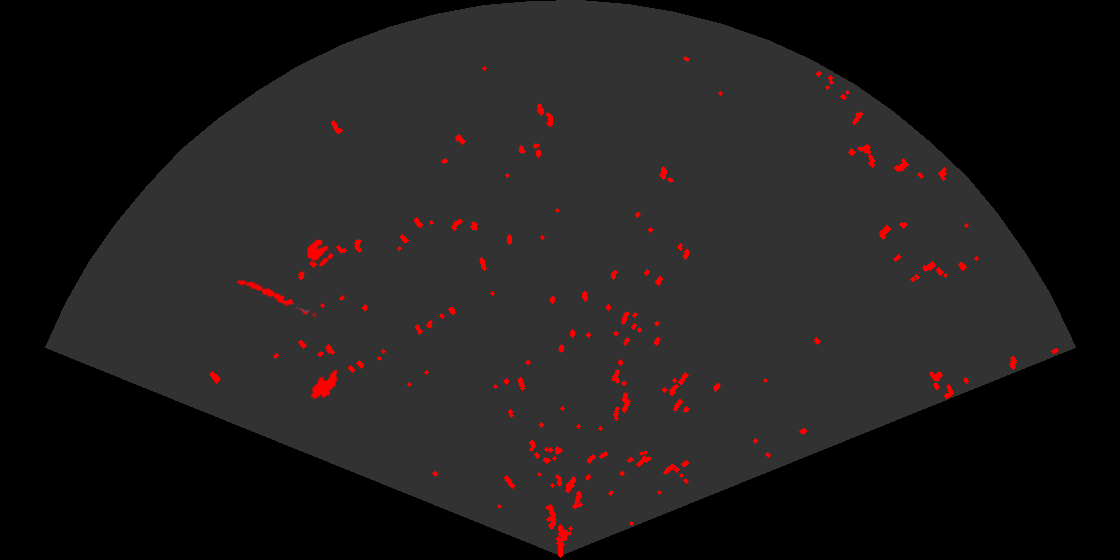AUV: (309, 368, 339, 401)
ball: (305, 238, 335, 268)
chain: (235, 278, 317, 317)
